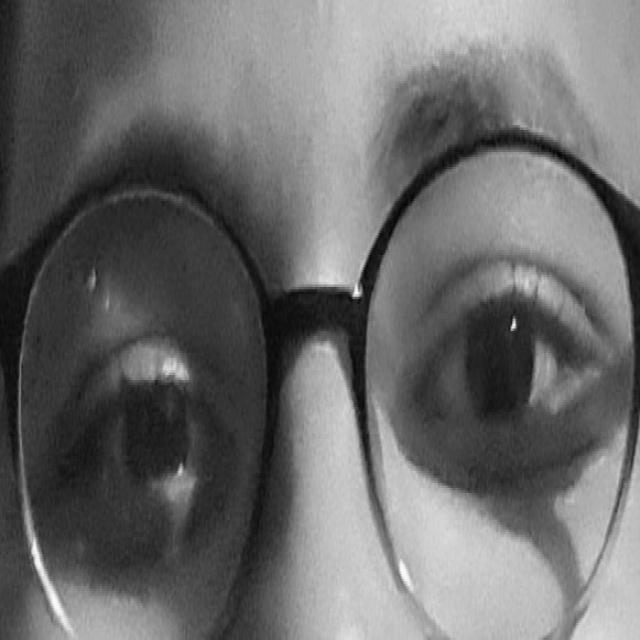real: (32, 202, 608, 590)
